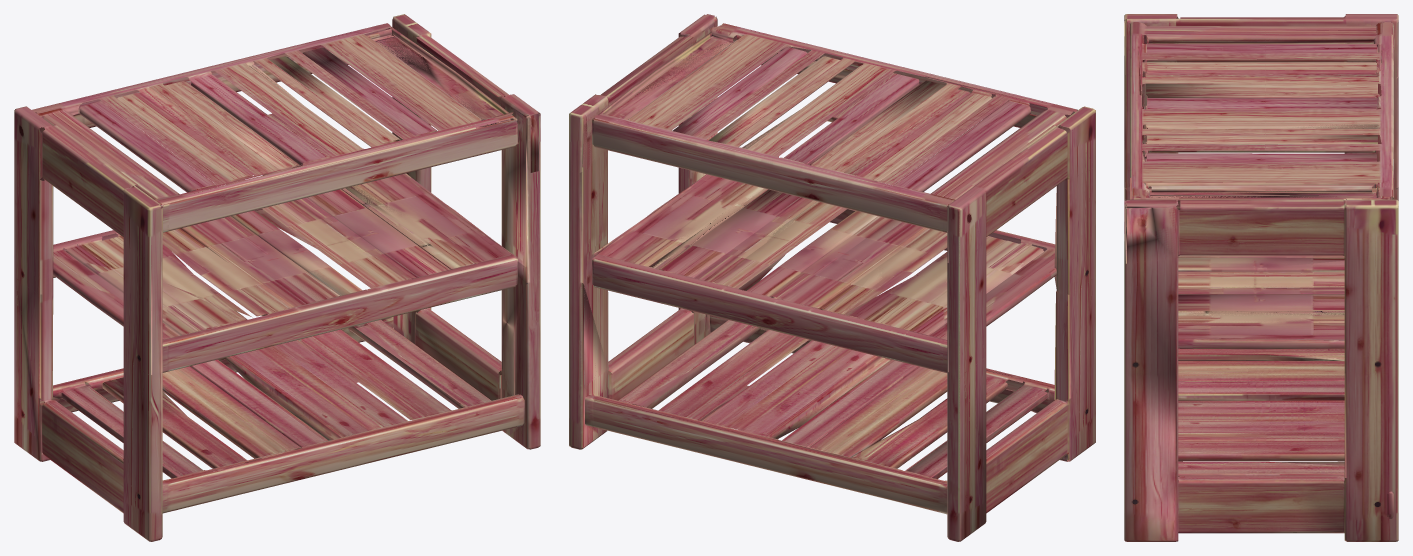
Rendered from Meshy_AI_Three_Tier_Slatted_Pi_0501030449_texture.fbx.
The picture shows the model from 3 angles, left to right: view 1: azimuth 30°, elevation 25°; view 2: azimuth 150°, elevation 25°; view 3: azimuth 270°, elevation 25°; orthographic projection.
Parts seen in each view (by area): view 1: Mesh_0; view 2: Mesh_0; view 3: Mesh_0.
Part boxes in pixels (left/top/right/bottom): Mesh_0: left=14, top=14, right=540, bottom=541; Mesh_0: left=569, top=14, right=1095, bottom=541; Mesh_0: left=1124, top=14, right=1398, bottom=541.
Bounding box in the file's own units: 189 × 153 × 113.
Materials: 1 (1 with a texture image).
